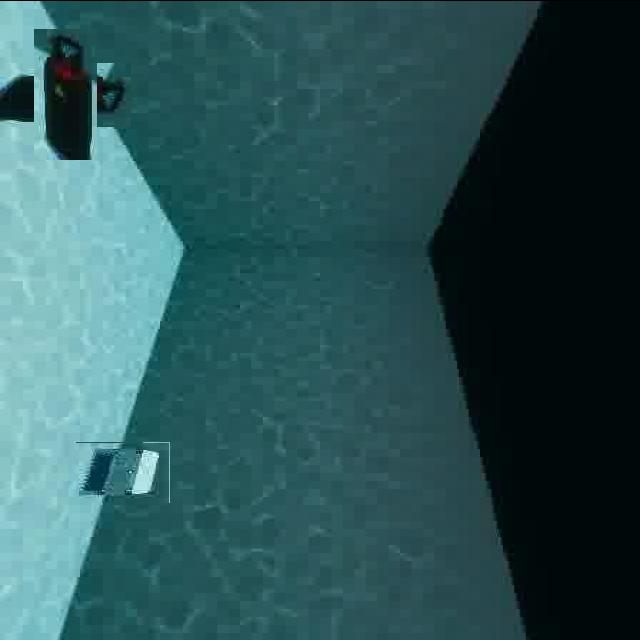Cylinder: (16, 45, 114, 143)
Docking Station: (76, 441, 170, 502)
